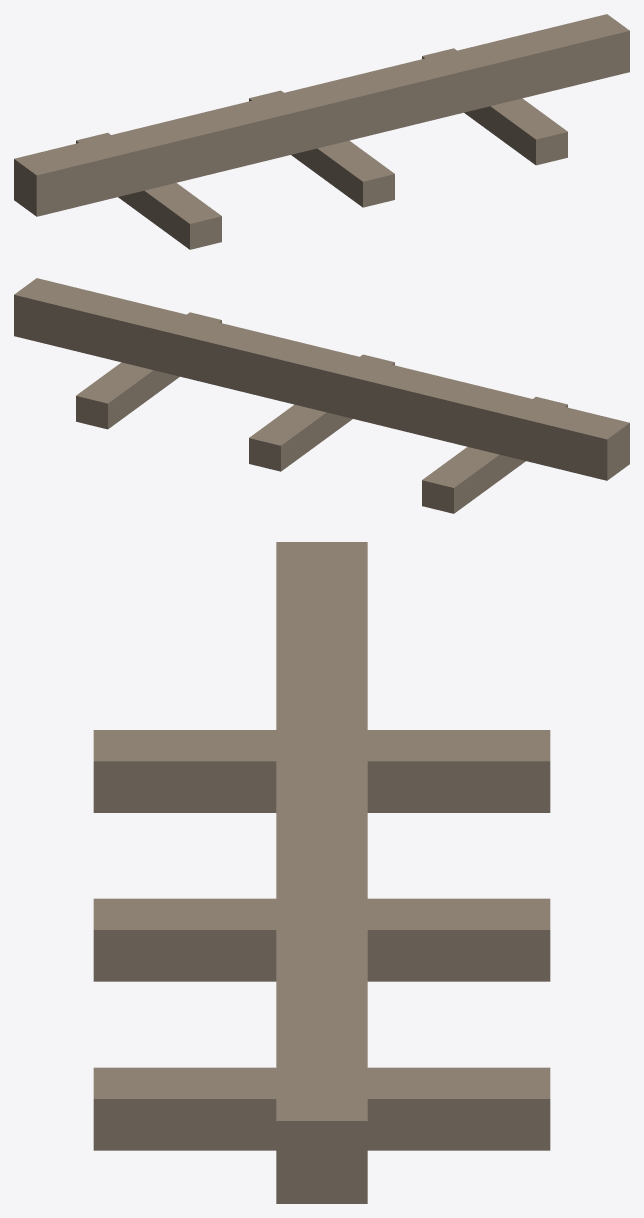
Rendered from bridge-cap.glb.
3 views of the same model, one above another, from view 1: azimuth 30°, elevation 25°; view 2: azimuth 150°, elevation 25°; view 3: azimuth 270°, elevation 25° (orthographic). The views are drawn at different scales.
Visible parts, largest first — view 1: bridge-cap; view 2: bridge-cap; view 3: bridge-cap.
Part boxes in pixels (x1,y1,x2,y2): bridge-cap: (14, 14, 629, 249); bridge-cap: (14, 278, 629, 513); bridge-cap: (93, 542, 550, 1203).
Bounding box in the file's own units: 4.8 × 0.52 × 1.6.
